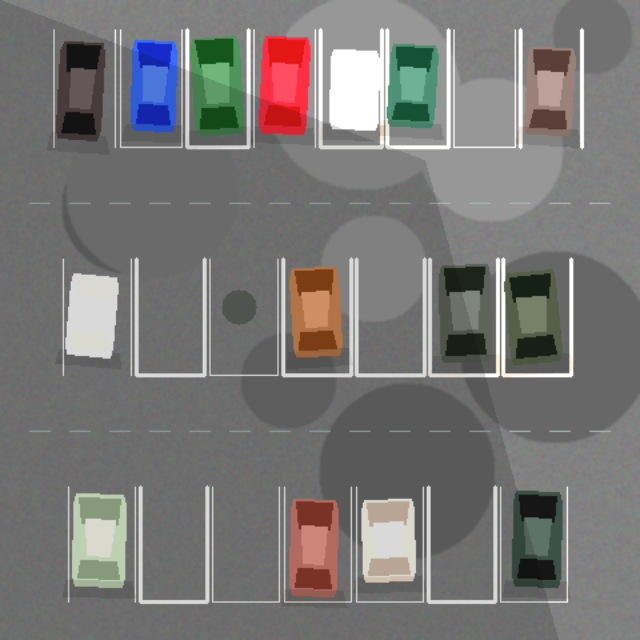space-empty: (136, 259, 204, 375), (209, 259, 277, 375), (356, 259, 424, 375), (140, 487, 207, 601), (212, 487, 279, 601), (428, 487, 495, 601), (453, 29, 515, 147)
space-occupied: (63, 259, 131, 375), (283, 259, 351, 375), (429, 259, 497, 375), (503, 259, 571, 375), (68, 487, 135, 601), (284, 487, 351, 601), (356, 487, 423, 601), (500, 487, 567, 601), (53, 29, 115, 147), (253, 29, 315, 147), (120, 29, 181, 147), (187, 29, 248, 147), (320, 29, 381, 147), (387, 29, 448, 147), (520, 29, 581, 147)
